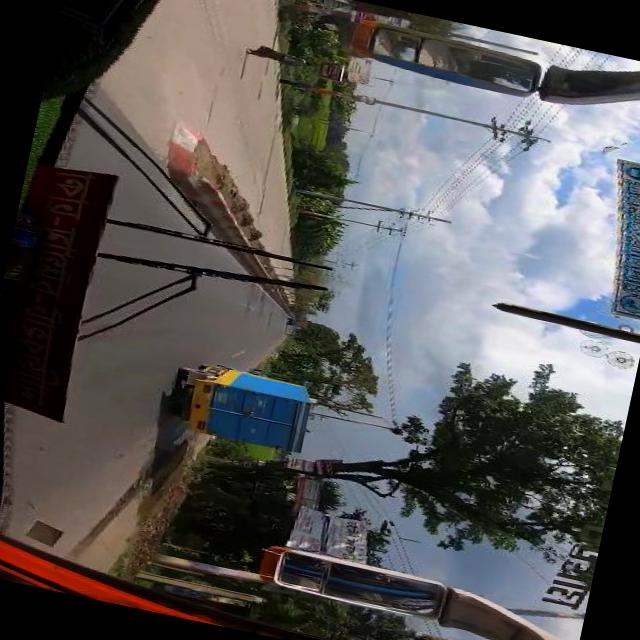truck: (165, 353, 318, 459)
